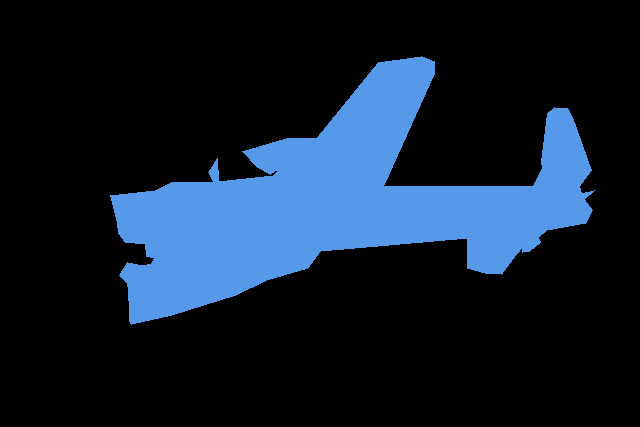Airplane: (110, 56, 595, 324)
